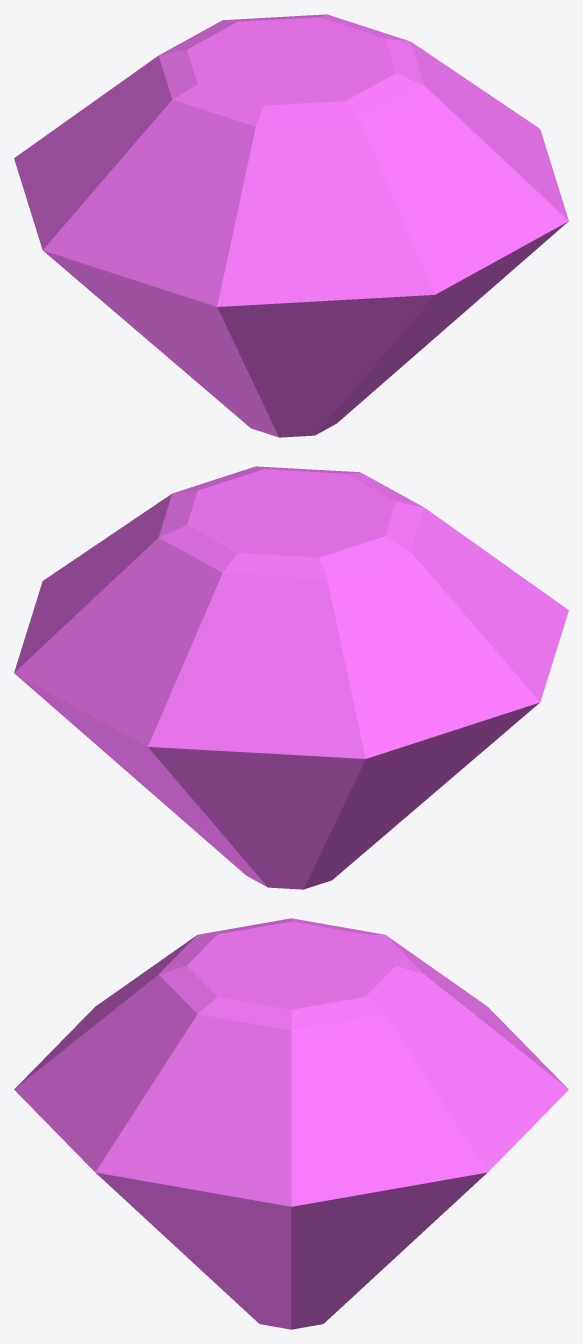
The model's file is Level-1-Bonus_DiamondBase1.fbx.
The picture shows the model from 3 angles, top to bottom: view 1: azimuth 30°, elevation 25°; view 2: azimuth 150°, elevation 25°; view 3: azimuth 270°, elevation 25°; orthographic projection. The views are drawn at different scales.
Visible parts, largest first — view 1: Circle; view 2: Circle; view 3: Circle.
Part boxes in pixels (left/top/right/bottom): Circle: left=14, top=14, right=568, bottom=437; Circle: left=14, top=466, right=568, bottom=889; Circle: left=14, top=918, right=568, bottom=1329.
Size of the model in its own units: 376 by 258 by 376.
1 material, 1 textured.
